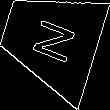N_W: (24, 12, 77, 67)
